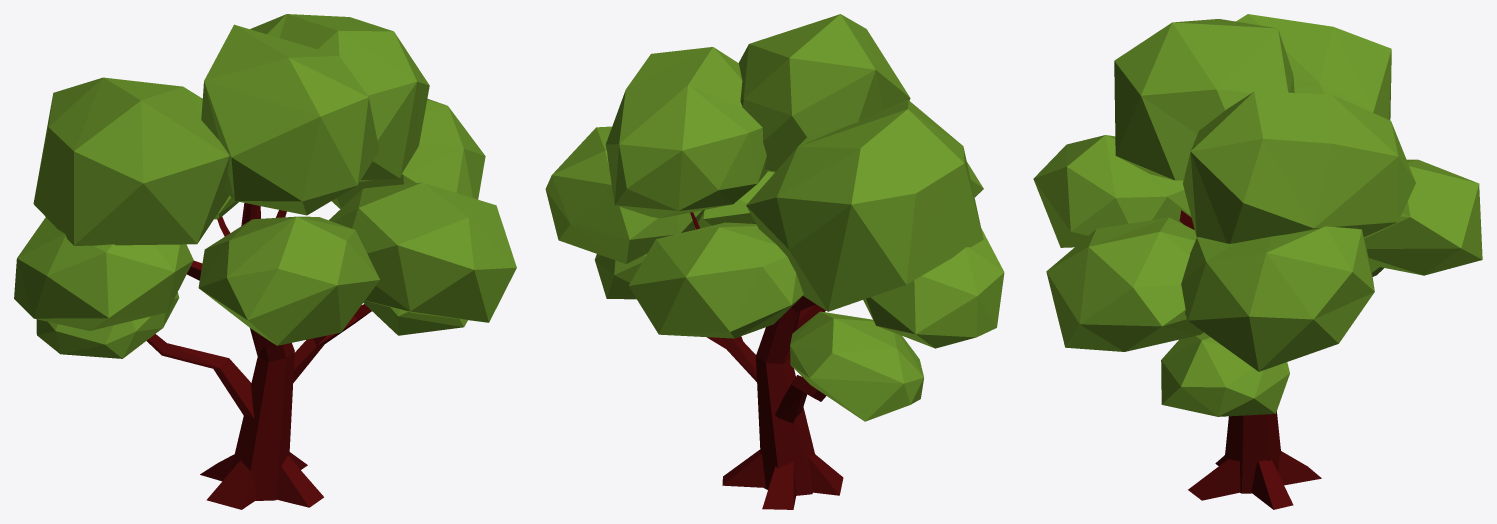
The model's file is tree_3.glb.
The picture shows the model from 3 angles, left to right: view 1: azimuth 30°, elevation 25°; view 2: azimuth 150°, elevation 25°; view 3: azimuth 270°, elevation 25°; orthographic projection. The views are drawn at different scales.
Visible parts, largest first — view 1: tree_3; view 2: tree_3; view 3: tree_3.
Part boxes in pixels (x1,y1,x2,y2): tree_3: (14,14,516,509); tree_3: (545,14,1004,509); tree_3: (1033,14,1482,509).
Bounding box in the file's own units: 19.83 × 19.77 × 17.68.
Materials: 1 (1 with a texture image).
